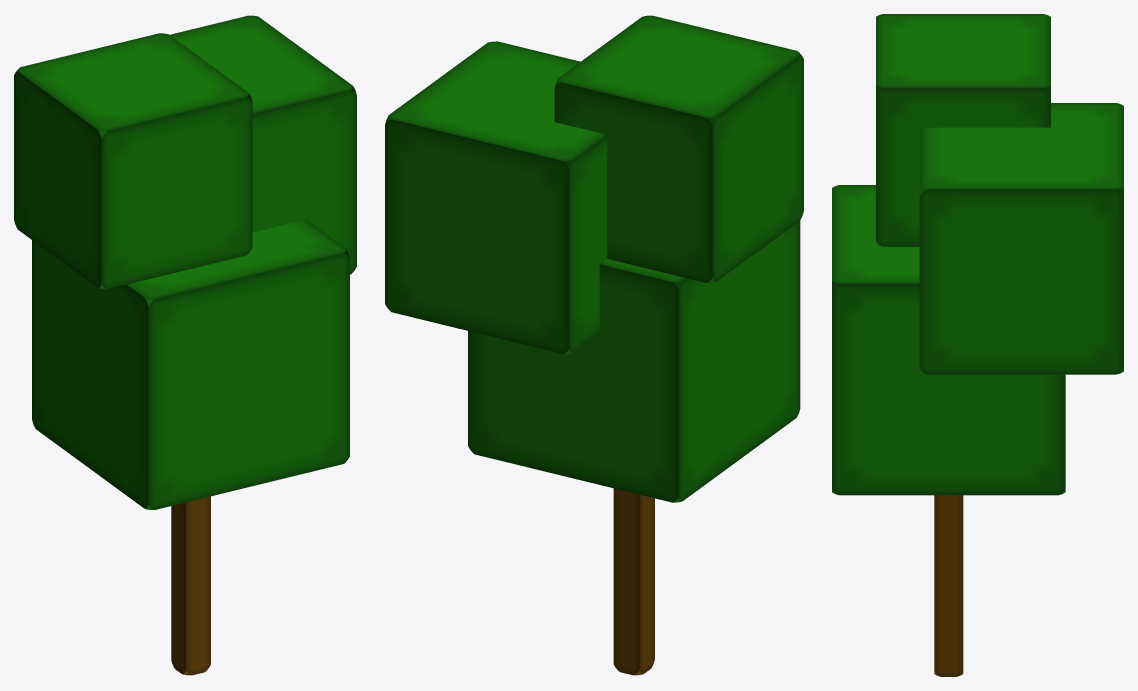
File: tree2.fbx
3 views of the same model, side by side, from view 1: azimuth 30°, elevation 25°; view 2: azimuth 150°, elevation 25°; view 3: azimuth 270°, elevation 25° (orthographic). The views are drawn at different scales.
Parts seen in each view (by area): view 1: cuboid_1, cuboid_3, cuboid_2, cuboid; view 2: cuboid_1, cuboid_2, cuboid_3, cuboid; view 3: cuboid_2, cuboid_1, cuboid_3, cuboid.
Part boxes in pixels (left/top/right/bottom): cuboid_1: left=32, top=219, right=349, bottom=509; cuboid_3: left=14, top=33, right=252, bottom=289; cuboid_2: left=170, top=15, right=356, bottom=274; cuboid: left=171, top=496, right=210, bottom=675; cuboid_1: left=468, top=221, right=800, bottom=502; cuboid_2: left=385, top=41, right=607, bottom=353; cuboid_3: left=554, top=15, right=803, bottom=282; cuboid: left=613, top=488, right=654, bottom=675; cuboid_2: left=919, top=103, right=1123, bottom=374; cuboid_1: left=832, top=185, right=1065, bottom=495; cuboid_3: left=876, top=14, right=1050, bottom=246; cuboid: left=934, top=495, right=963, bottom=676.
Bounding box in the file's own units: 138 × 281 × 125.
1 material, 1 textured.
